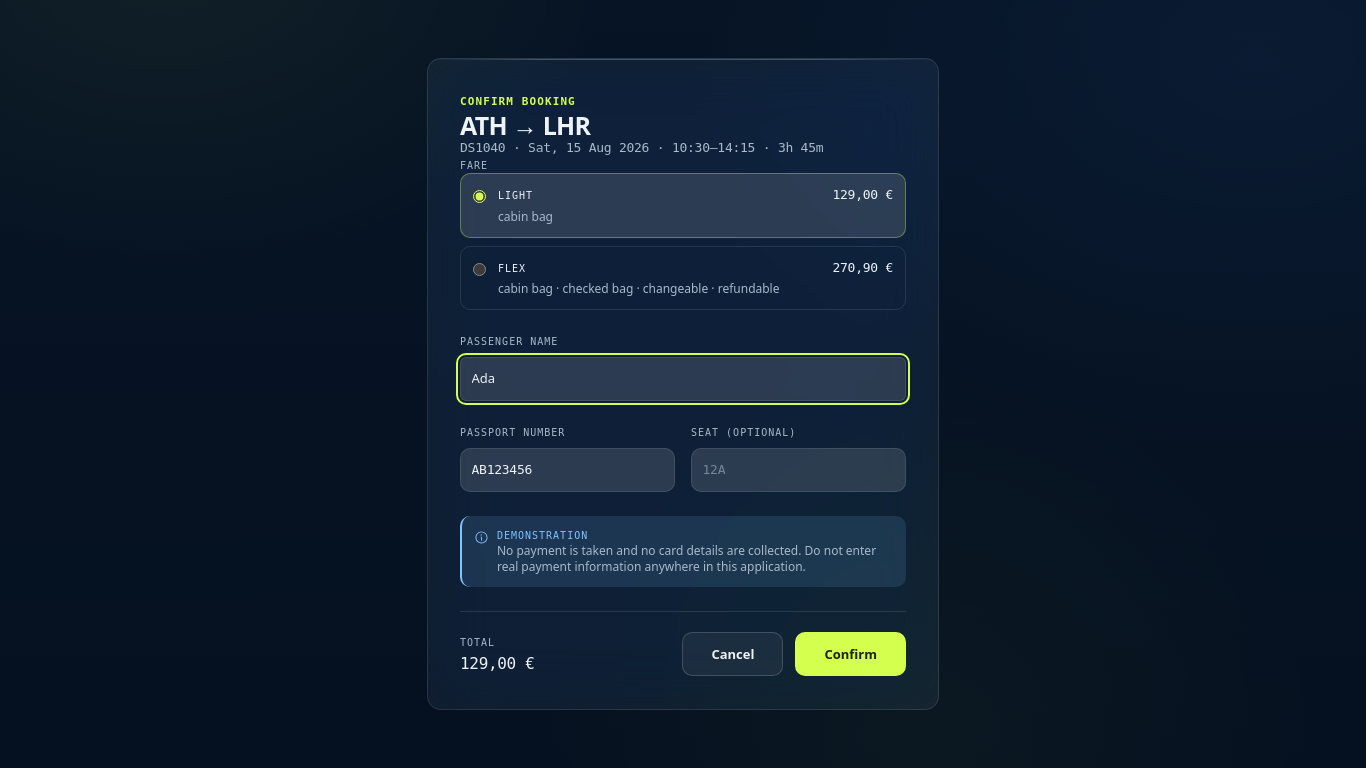
Test: BookingDialog › failure › surfaces the server message
Click the button "Confirm".
click(851, 654)  # box x1=796 y1=632 x2=906 y2=676
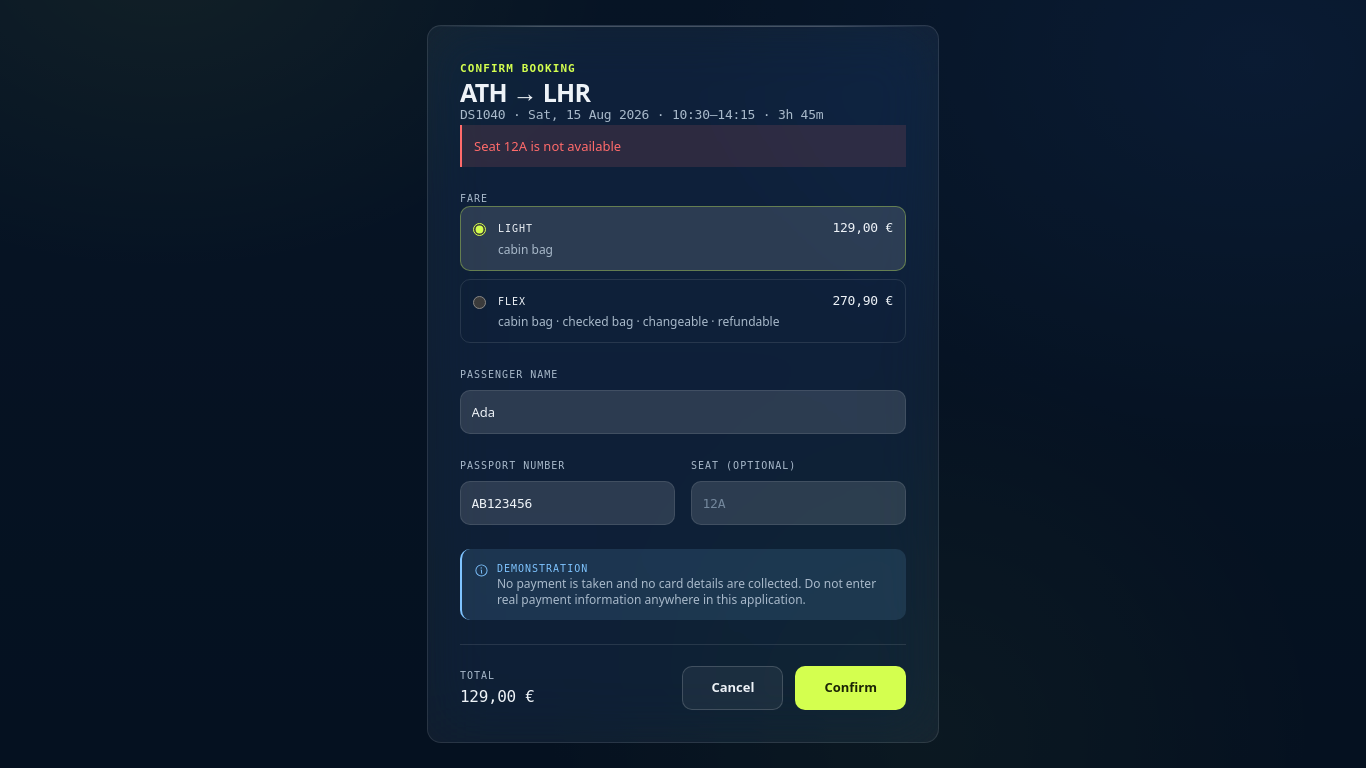
Now the message reads "Seat 12A is not available", box x1=474 y1=137 x2=621 y2=155
